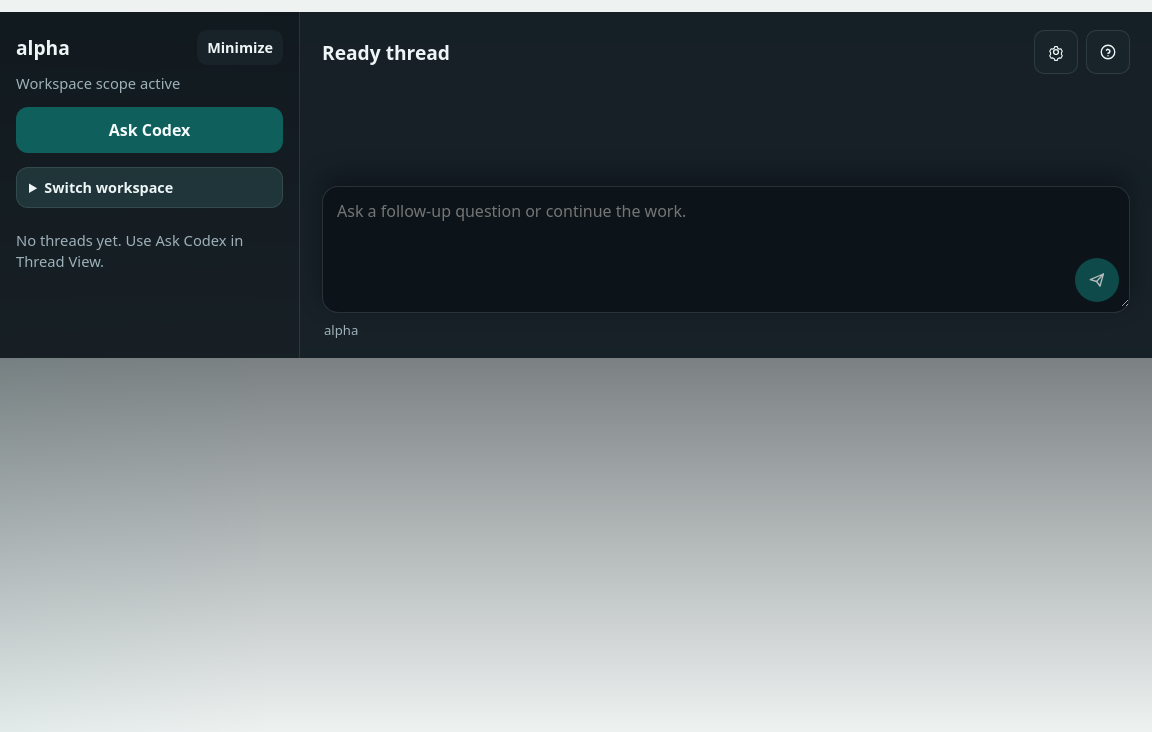
Scenario: ChatView › opens Thread Details with status metadata and collapsed debug content
The image size is (1152, 732).
Step 1. Click the button named "Thread details" → (1108, 52), box [1086,30,1130,74]
(page scrolled)
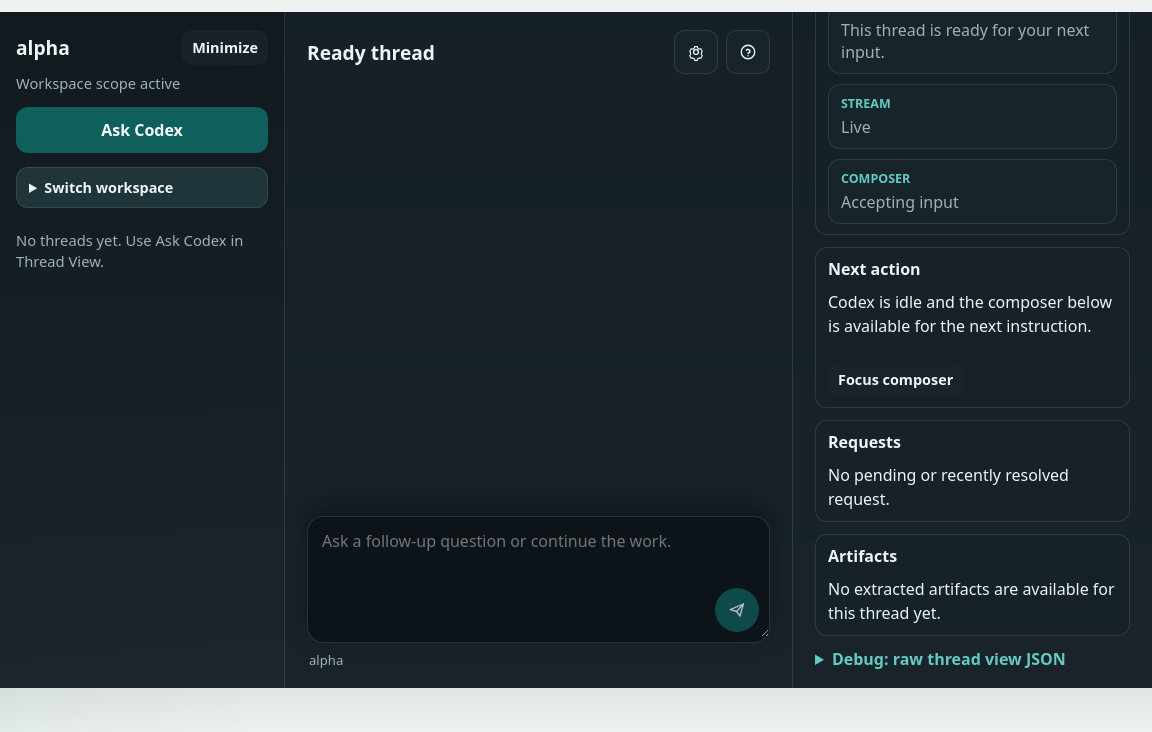
Expected: the text "Next action" is shown, [828,258,921,280]
Expected: the text "Requests" is shown, [828,431,901,453]
Expected: the text "Artifacts" is shown, [828,545,897,567]
